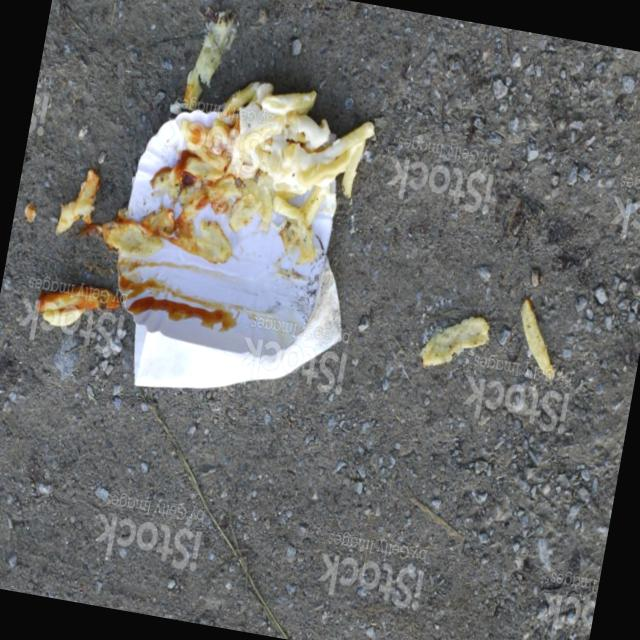ly_hop_giay: (116, 181, 340, 388), (126, 109, 231, 222)
thuc_an_thua: (95, 81, 374, 265)
